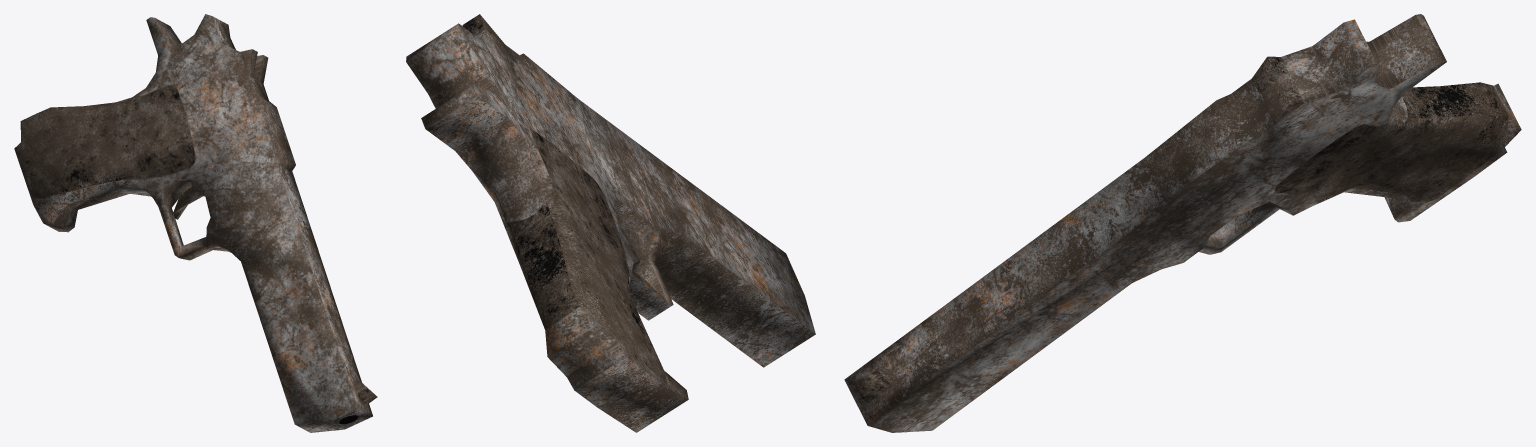
File: Anim_disparar_pistola_objetos.0029.obj
3 views of the same model, side by side, from view 1: azimuth 30°, elevation 25°; view 2: azimuth 150°, elevation 25°; view 3: azimuth 270°, elevation 25° (orthographic). The views are drawn at different scales.
Visible parts, largest first — view 1: Pistola1; view 2: Pistola1; view 3: Pistola1.
Part boxes in pixels (left/top/right/bottom): Pistola1: left=14, top=14, right=377, bottom=432; Pistola1: left=406, top=14, right=815, bottom=432; Pistola1: left=844, top=14, right=1521, bottom=432.
Bounding box in the file's own units: 0.798 × 1.2 × 1.67.
